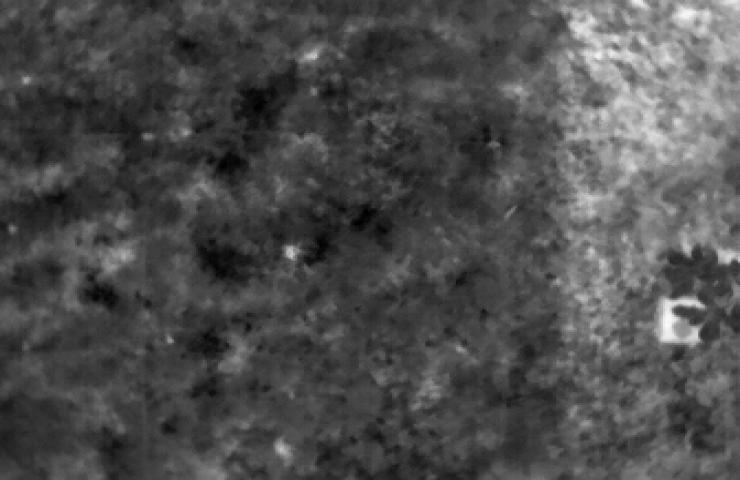landmines: (282, 245, 307, 266)
